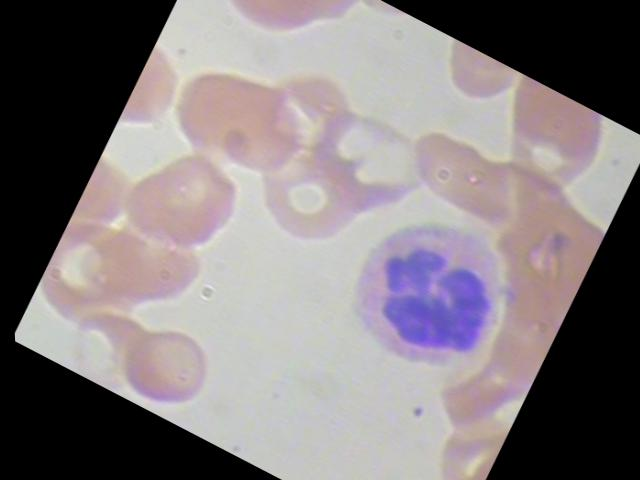Red Blood Cells: (150, 43, 320, 199), (102, 128, 260, 280), (391, 110, 535, 234), (245, 142, 368, 258), (107, 312, 227, 424), (51, 292, 170, 404), (243, 0, 372, 44)
White Blood Cells: (309, 182, 538, 410)
